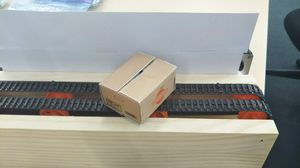box1: (97, 50, 176, 124)
